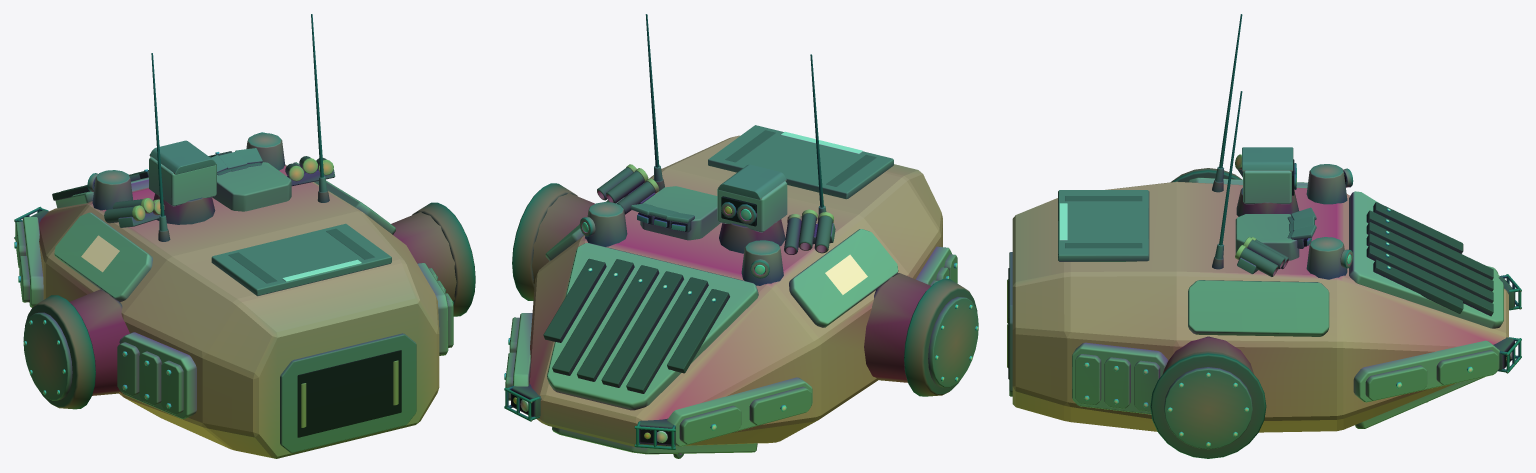
Rendered from core_puma_spz.glb.
3 renders of one model, left to right at view 1: azimuth 30°, elevation 25°; view 2: azimuth 150°, elevation 25°; view 3: azimuth 270°, elevation 25°, orthographic. The views are drawn at different scales.
Visible parts, largest first — view 1: Body__armor_sub, Body__gunmetal, Body__dark, Body__armor, Body__bore, Body__brass, Body__decal, Body__copper, Body__rubber; view 2: Body__armor_sub, Body__armor, Body__dark, Body__gunmetal, Body__rubber, Body__bore, Body__decal; view 3: Body__armor_sub, Body__gunmetal, Body__dark, Body__armor, Body__rubber, Body__chrome.
Part boxes in pixels (x1,y1,x2,y2): Body__armor_sub: (15, 162, 453, 458); Body__gunmetal: (14, 132, 416, 452); Body__dark: (24, 14, 475, 409); Body__armor: (22, 156, 448, 419); Body__bore: (94, 183, 401, 437); Body__brass: (132, 158, 333, 220); Body__decal: (81, 235, 119, 272); Body__copper: (301, 360, 398, 427); Body__rubber: (52, 151, 231, 200); Body__armor_sub: (505, 135, 957, 454); Body__armor: (512, 181, 951, 446); Body__dark: (511, 14, 977, 446); Body__gunmetal: (504, 125, 978, 458); Body__rubber: (543, 258, 729, 393); Body__bore: (511, 196, 765, 444); Body__decal: (825, 254, 867, 294); Body__armor_sub: (1012, 181, 1508, 432); Body__gunmetal: (1009, 147, 1521, 449); Body__dark: (1065, 14, 1514, 458); Body__armor: (1072, 170, 1503, 414); Body__rubber: (1366, 202, 1493, 316); Body__chrome: (1084, 208, 1473, 446).
Size of the model in its own units: 2.05 by 1.71 by 2.26.
